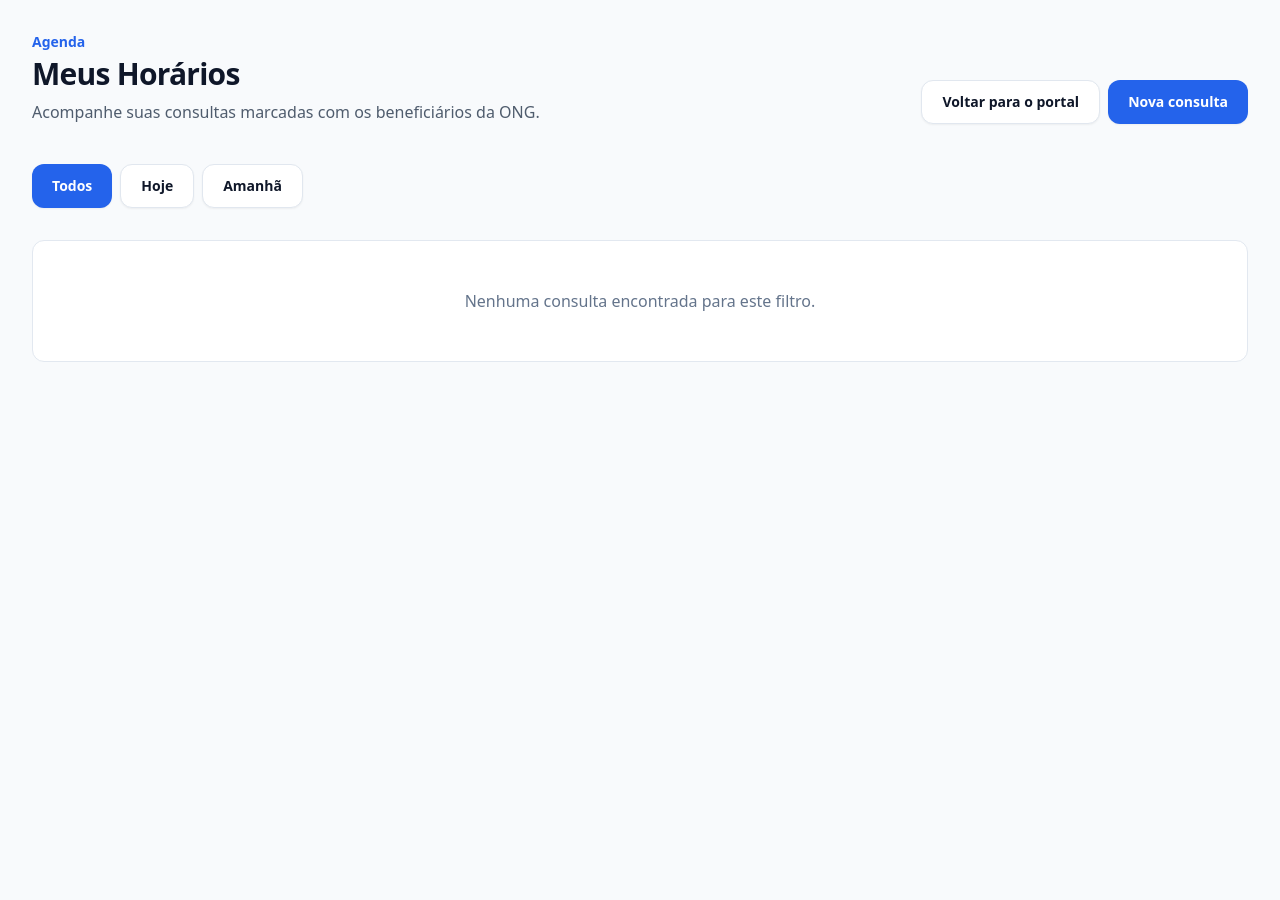
it: AgendaConsultas › valida nome, data e horário antes de confirmar ou enviar
Click the button "Nova consulta": (1178, 102) [1108,80,1248,124]
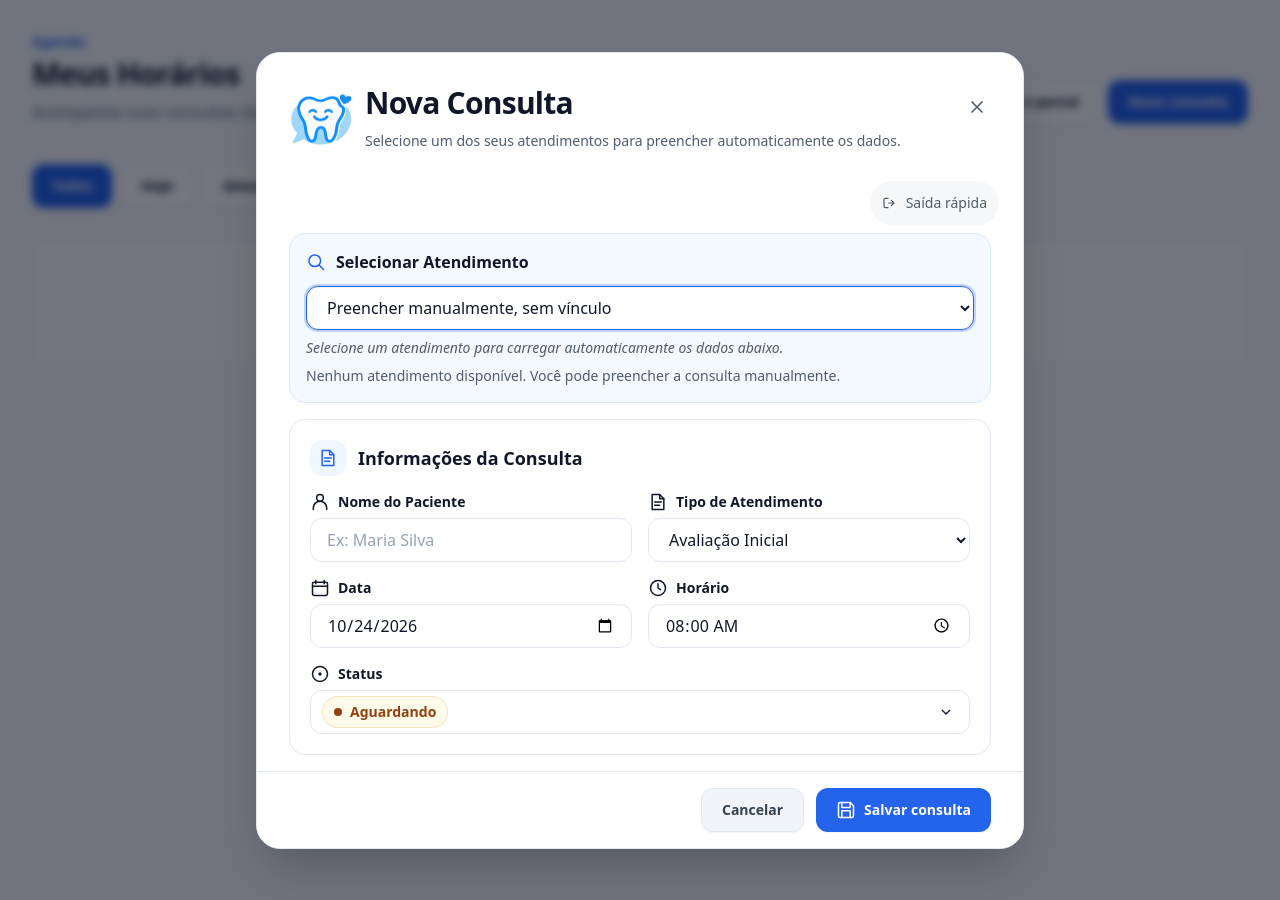
Now the dropdown labelled "Selecionar Atendimento" is enabled, box [306,286,974,330]
Clear the date field labelled "Data": (471, 626) [310,604,632,648]
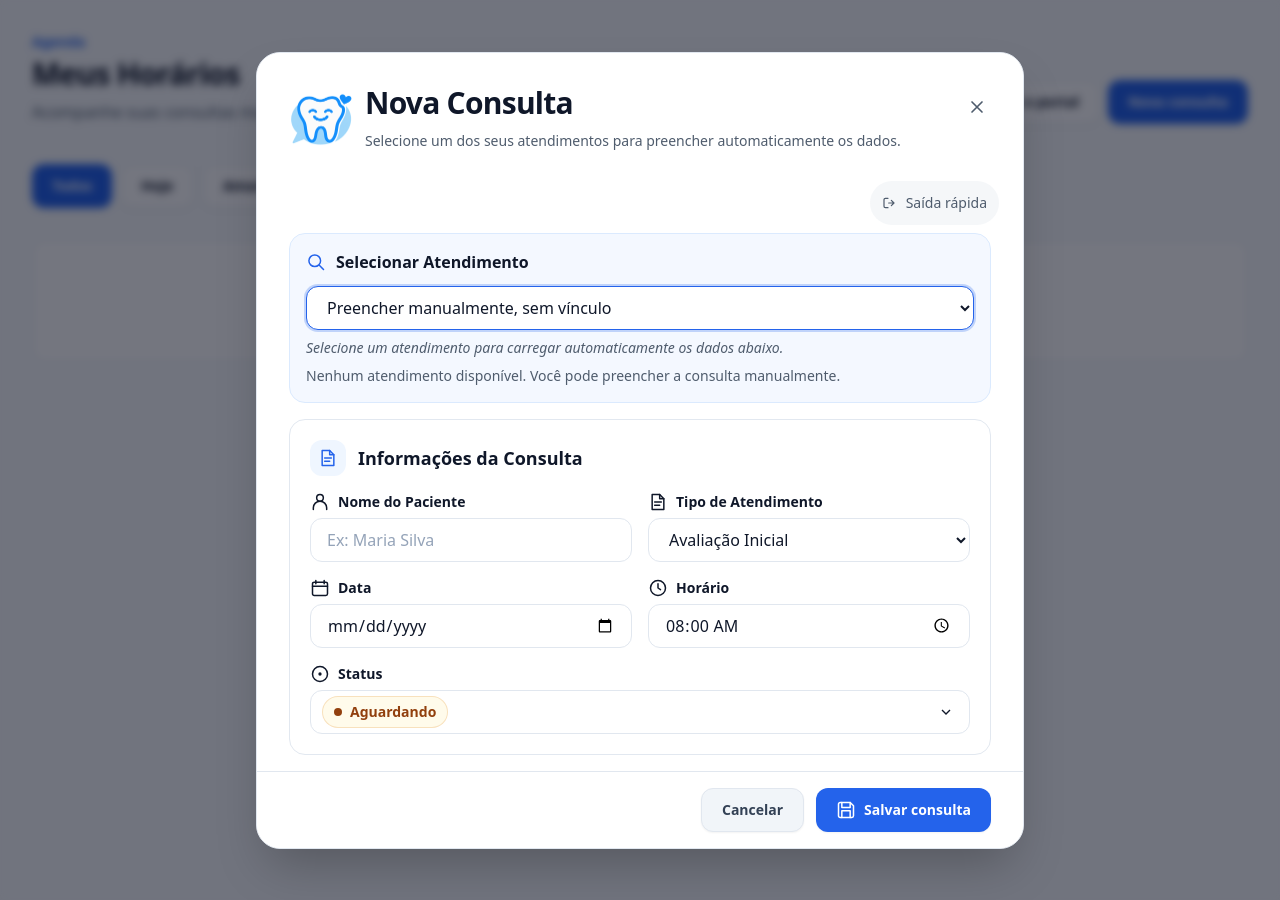
Clear the time field labelled "Horário": (809, 626) [648,604,970,648]
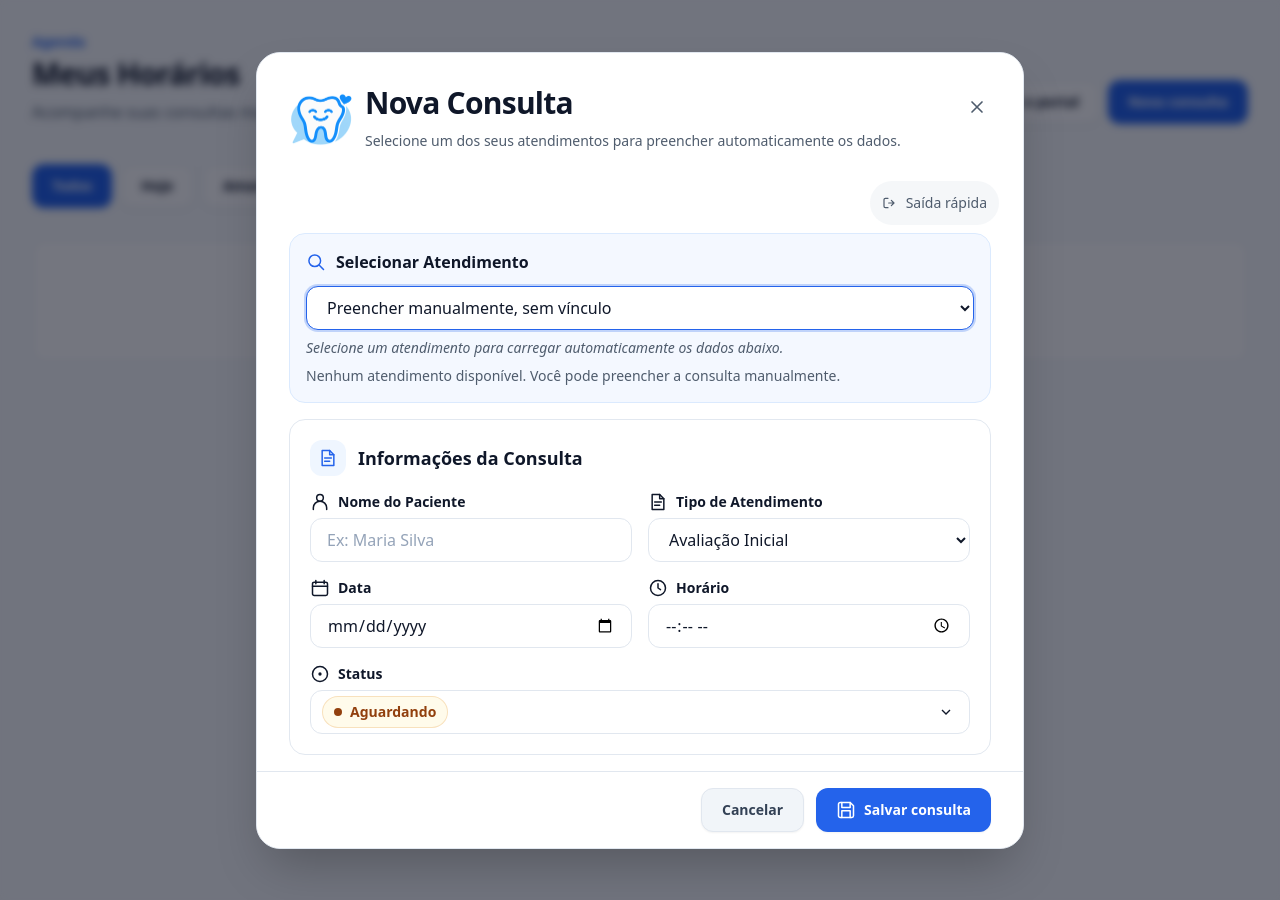
Click the button "Salvar consulta": (904, 810) [816,788,991,832]
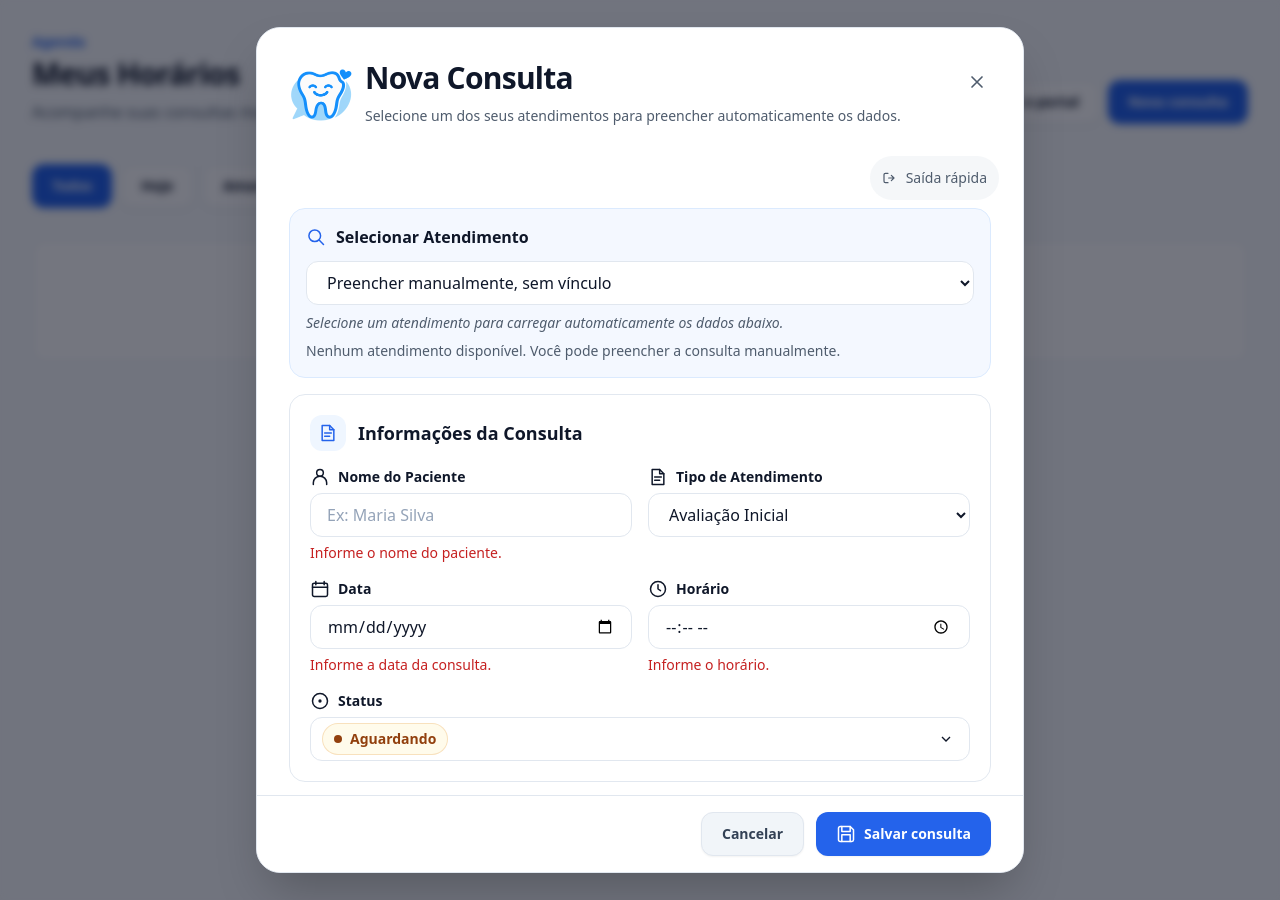
Now the text "Informe o nome do paciente." is shown, box [310,543,502,562]
Now the text "Informe a data da consulta." is shown, box [310,655,491,674]
Now the text "Informe o horário." is shown, box [648,655,769,674]
